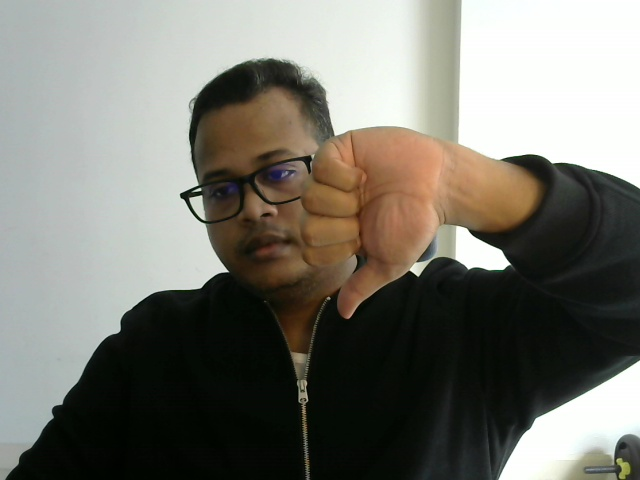ThumbsDown: (300, 125, 444, 319)
